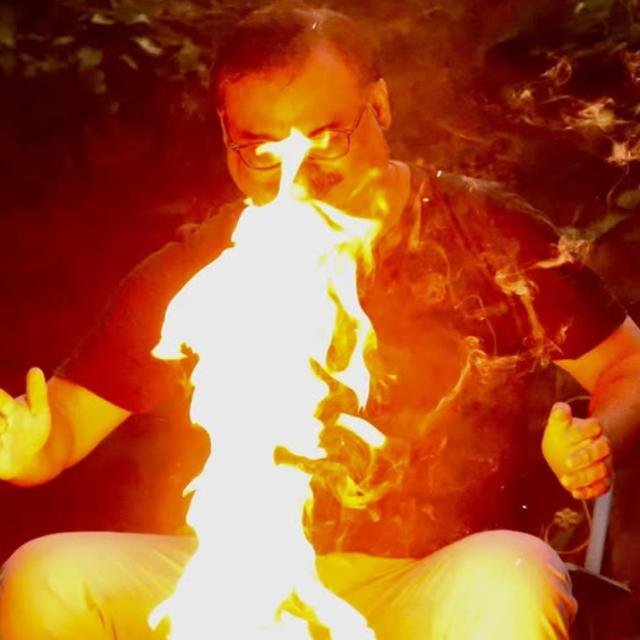fire: (150, 127, 382, 640), (335, 413, 386, 449)
